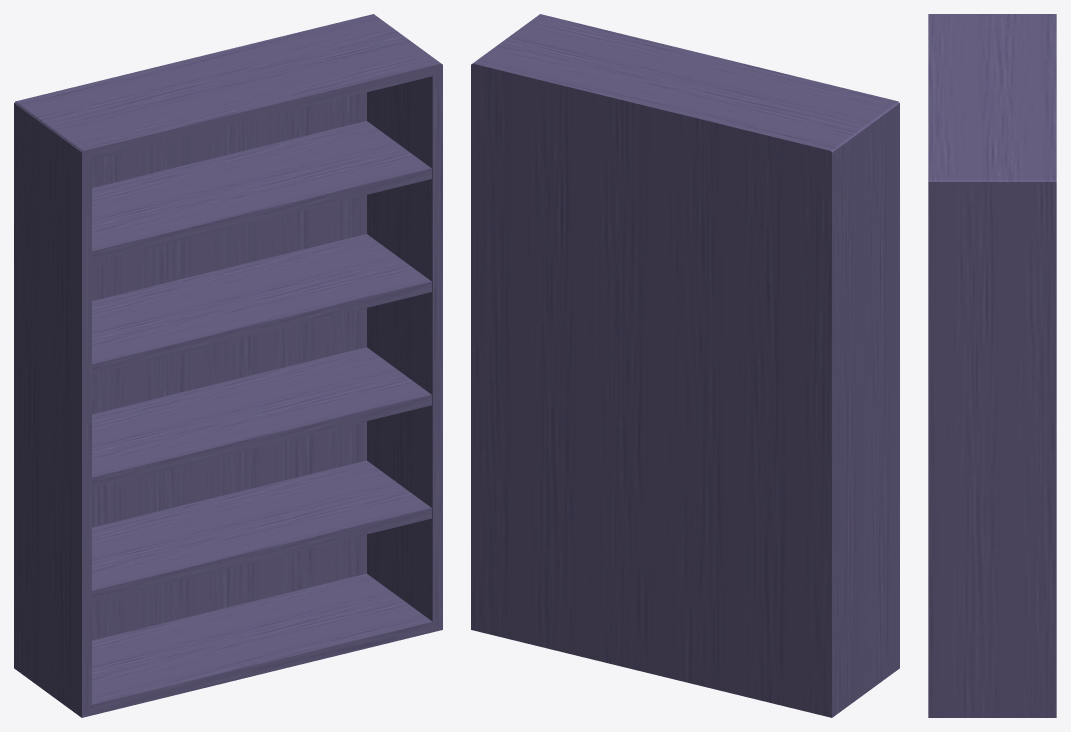
Rendered from Bookshelf_H.FBX.
The picture shows the model from 3 angles, left to right: view 1: azimuth 30°, elevation 25°; view 2: azimuth 150°, elevation 25°; view 3: azimuth 270°, elevation 25°; orthographic projection. The views are drawn at different scales.
Parts seen in each view (by area): view 1: Bookshelf; view 2: Bookshelf; view 3: Bookshelf.
Boxes of the visible parts, x1,y1,x2,y2 form: Bookshelf: [14, 14, 442, 717]; Bookshelf: [471, 14, 899, 717]; Bookshelf: [928, 14, 1056, 717].
Size of the model in its own units: 200 by 300 by 65.
